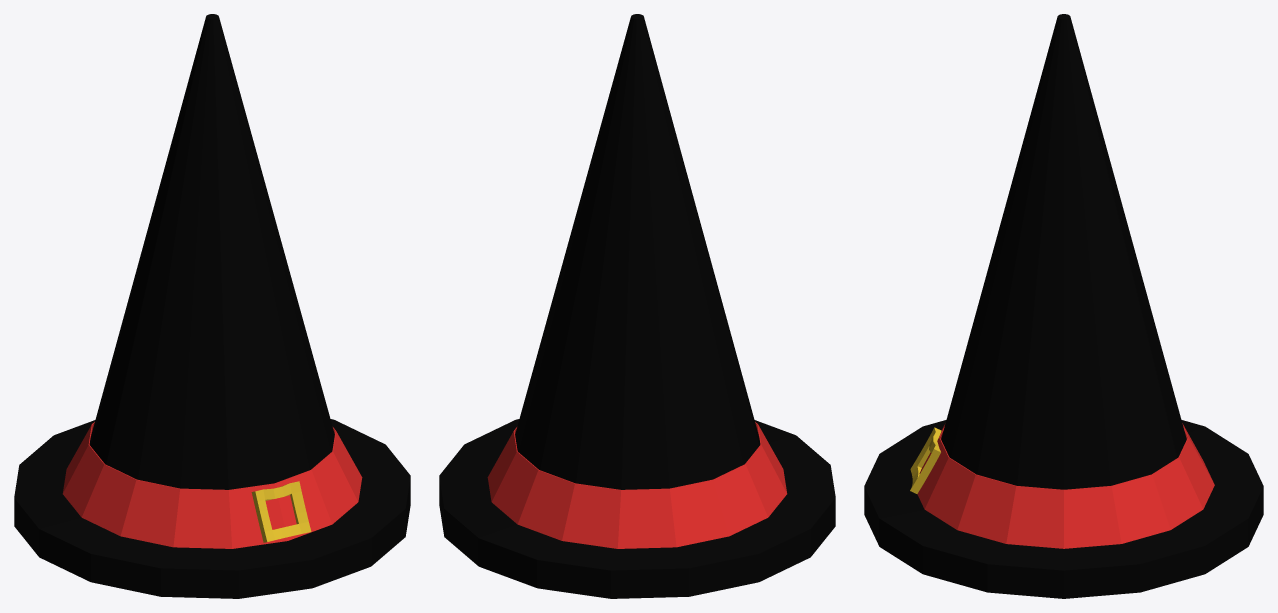
The model's file is LowPoly_WitchHat.fbx.
3 views of the same model, side by side, from view 1: azimuth 30°, elevation 25°; view 2: azimuth 150°, elevation 25°; view 3: azimuth 270°, elevation 25° (orthographic).
Parts seen in each view (by area): view 1: Hat, Belt, Clasp; view 2: Hat, Belt; view 3: Hat, Belt, Clasp.
Boxes of the visible parts, x1,y1,x2,y2 form: Hat: [14, 14, 410, 598]; Belt: [62, 422, 362, 548]; Clasp: [251, 481, 311, 542]; Hat: [439, 14, 835, 598]; Belt: [487, 422, 787, 548]; Hat: [864, 14, 1263, 598]; Belt: [917, 423, 1214, 548]; Clasp: [910, 427, 941, 493].
Size of the model in its own units: 0.5 by 0.6909 by 0.5.
